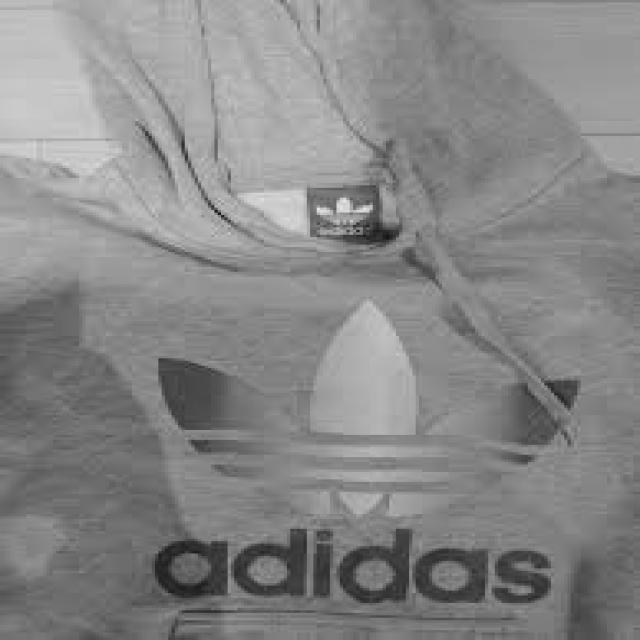Adidas: (122, 297, 617, 536), (310, 180, 396, 240), (307, 186, 383, 233)
